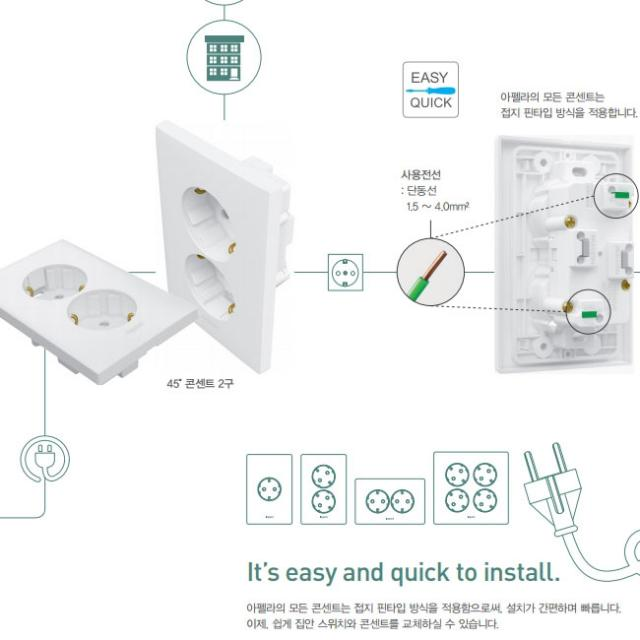typeb: (5, 222, 186, 406), (427, 445, 515, 535), (236, 446, 298, 540), (353, 471, 431, 534), (298, 444, 350, 536)
